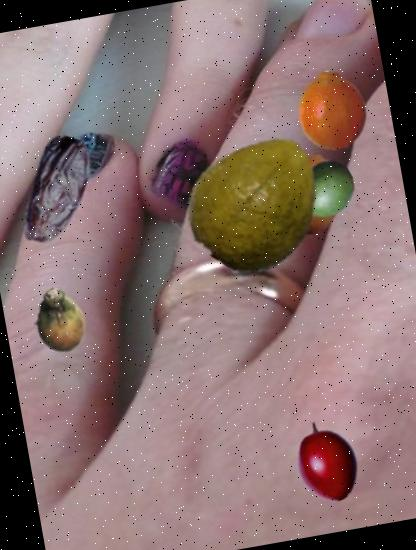Apricot: (257, 146, 354, 242)
Cactus: (25, 284, 98, 357)
Dates: (0, 126, 121, 256)
Guava: (173, 118, 340, 284)
Mango: (289, 153, 361, 226)
Tamarillo: (278, 413, 374, 509)
Tangelo: (286, 64, 378, 156)
